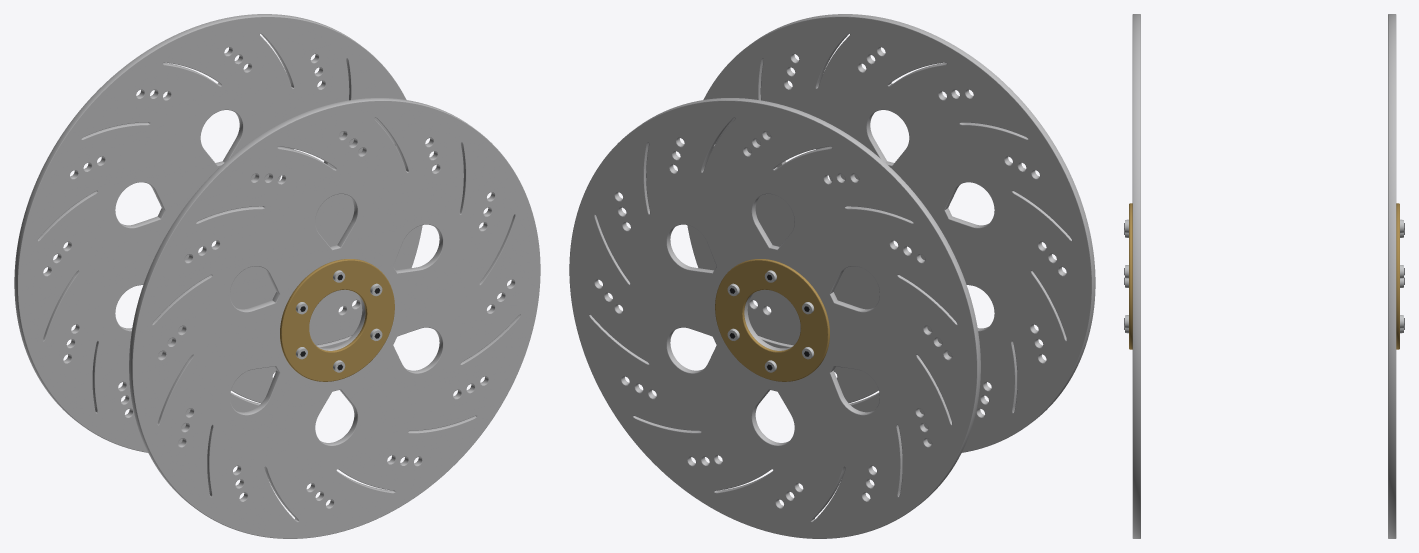
Rendered from onepiece.glb.
The picture shows the model from 3 angles, left to right: view 1: azimuth 30°, elevation 25°; view 2: azimuth 150°, elevation 25°; view 3: azimuth 270°, elevation 25°; orthographic projection. The views are drawn at different scales.
Visible parts, largest first — view 1: disc_front_onepiece; view 2: disc_front_onepiece; view 3: disc_front_onepiece.
Part boxes in pixels (x1,y1,x2,y2): disc_front_onepiece: [14, 14, 540, 538]; disc_front_onepiece: [569, 14, 1095, 538]; disc_front_onepiece: [1124, 14, 1404, 538].
Bounding box in the file's own units: 0.3208 × 0.3208 × 0.1712.
